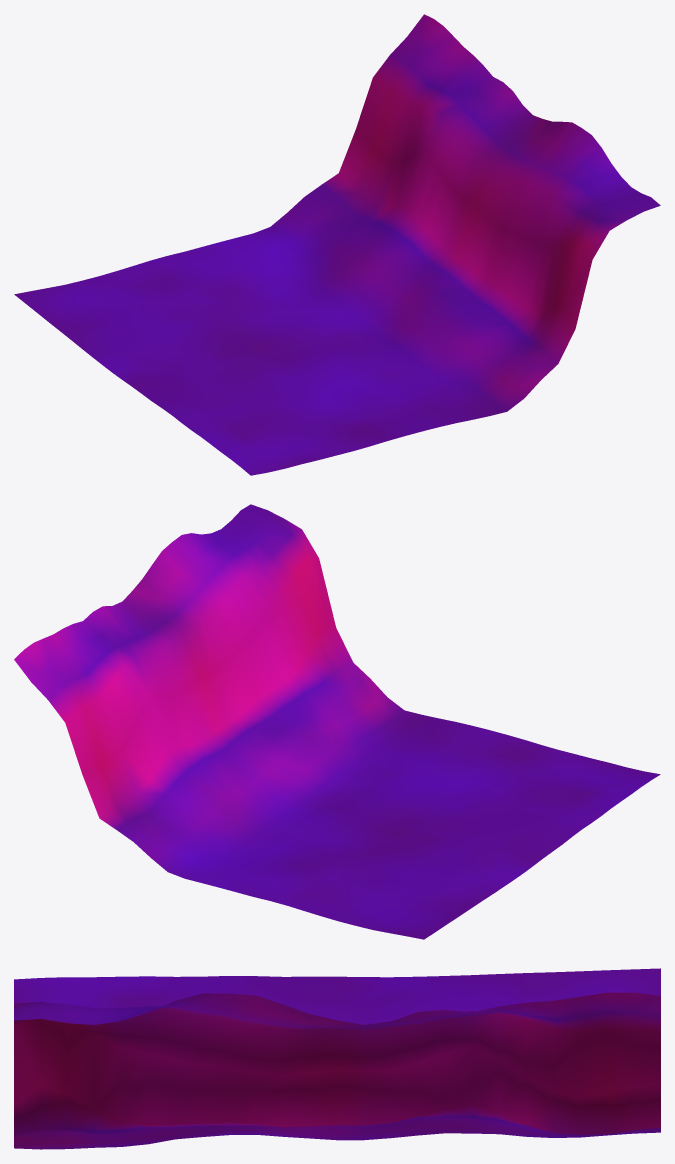
The model's file is ground_45.glb.
3 renders of one model, top to bottom at view 1: azimuth 30°, elevation 25°; view 2: azimuth 150°, elevation 25°; view 3: azimuth 270°, elevation 25°, orthographic. The views are drawn at different scales.
Visible parts, largest first — view 1: Ground_45; view 2: Ground_45; view 3: Ground_45.
Part boxes in pixels (left/top/right/bottom): Ground_45: left=14, top=14, right=660, bottom=475; Ground_45: left=14, top=504, right=660, bottom=939; Ground_45: left=14, top=968, right=660, bottom=1149.
Size of what is drawn, in the model's own units: 24 by 10.73 by 24.
